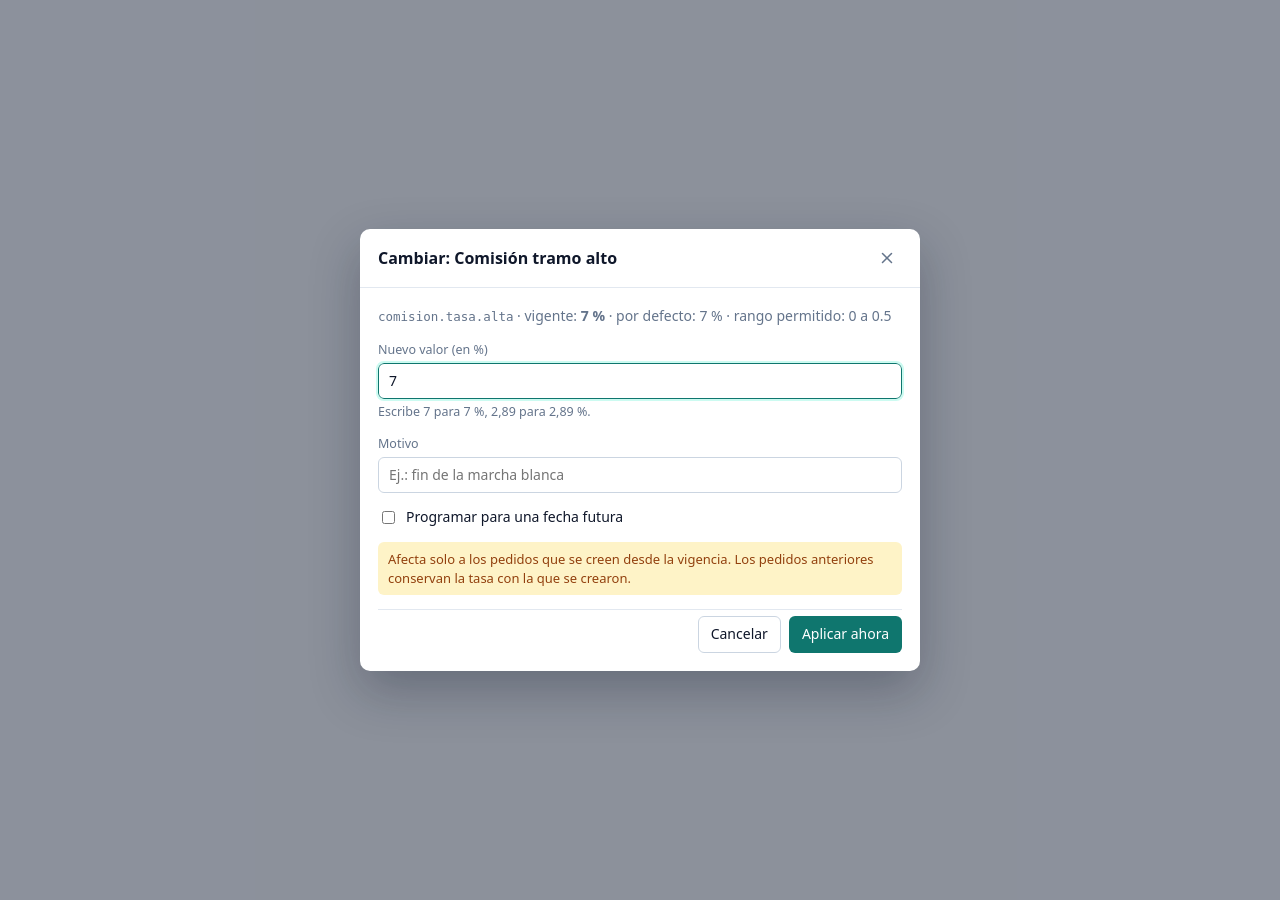
Test: CambioParametroModal › exige motivo y rechaza una fecha programada en el pasado
Replace the text in the field labelled "Nuevo valor (en %) Escribe 7 para 7 %, 2,89 para 2,89 %." with "8": (640, 381) [378,363,902,399]
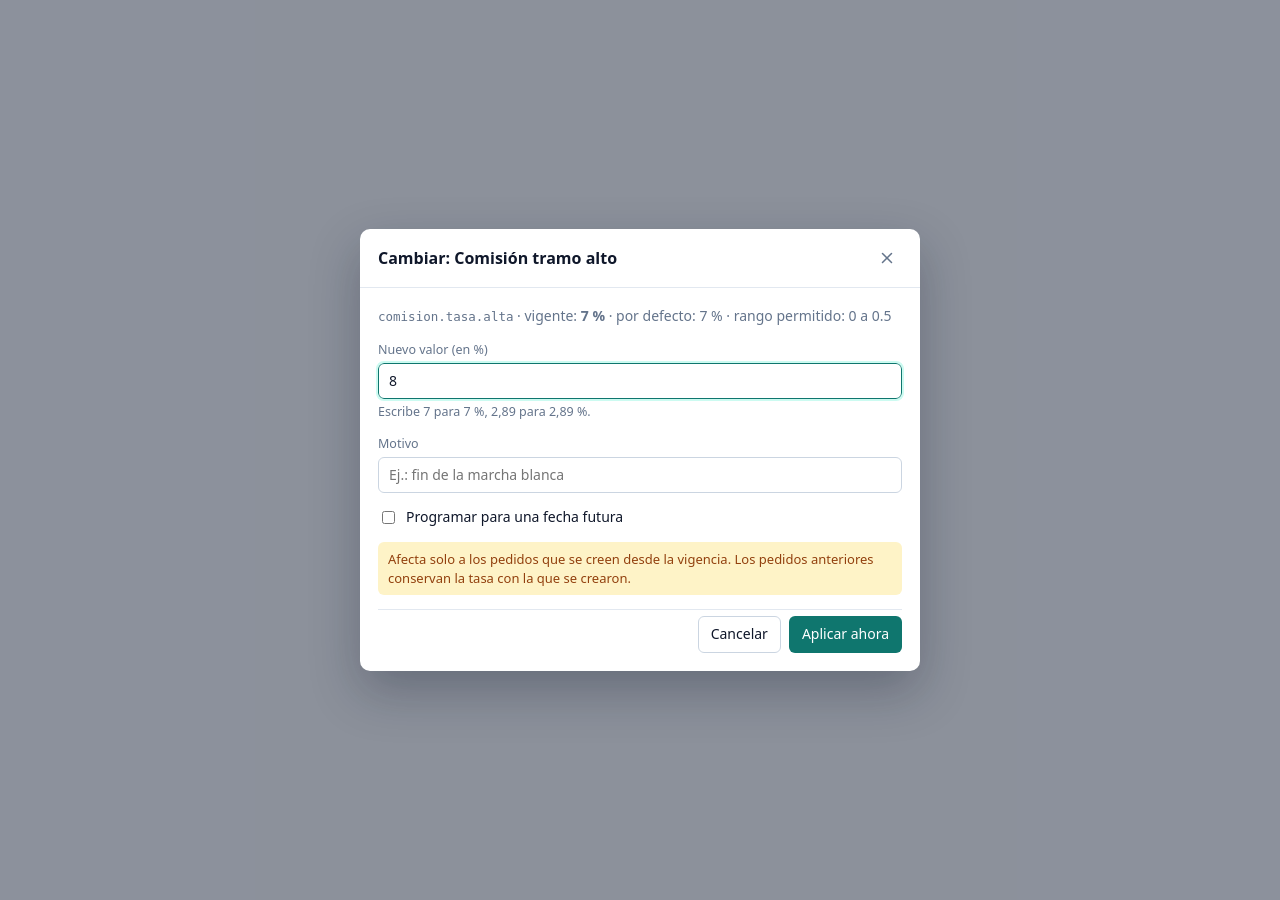
Click the button "Aplicar ahora": (845, 635) [789,616,902,653]
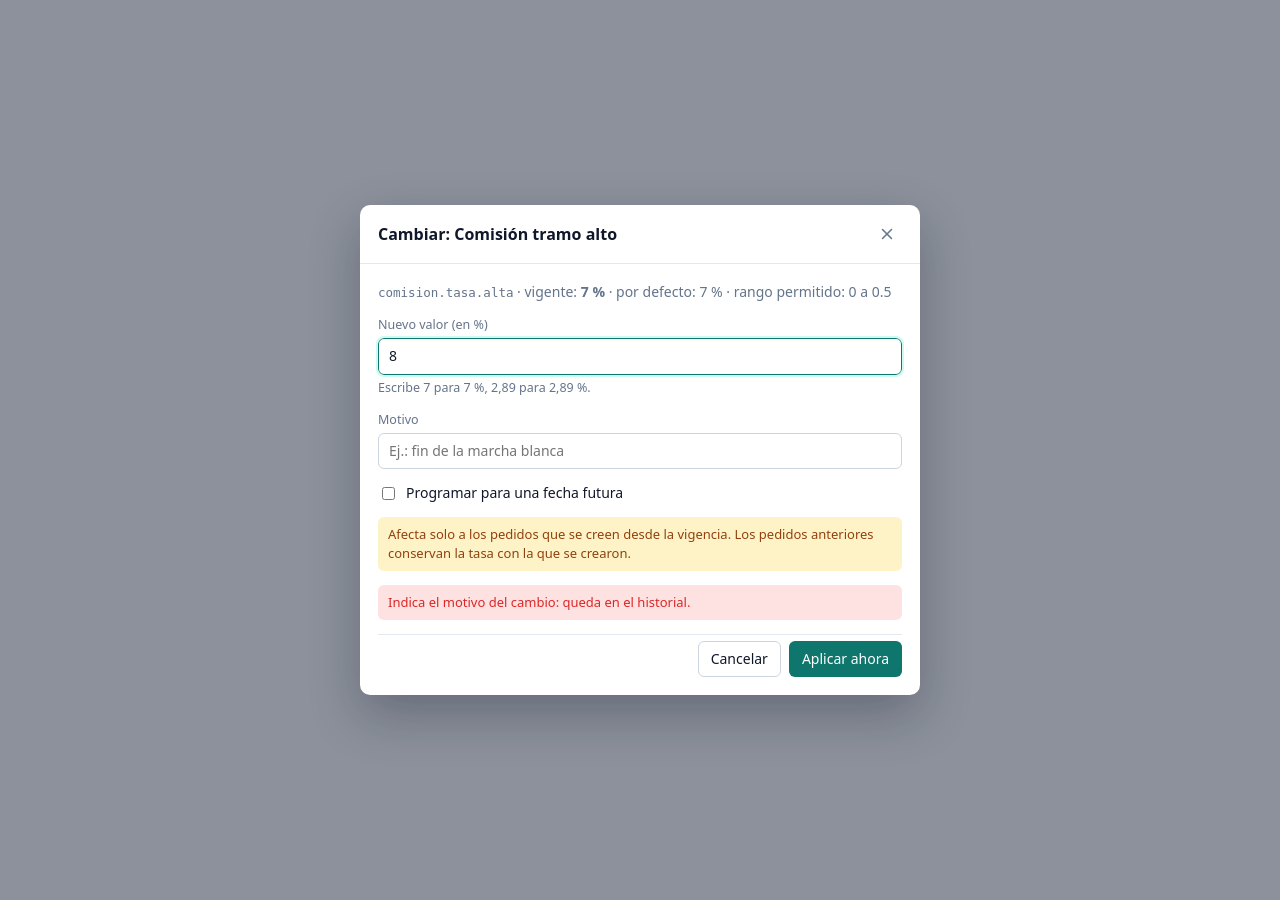
Expected: the message shows "motivo", [388,593,690,611]
In the field labelled "Motivo": (640, 451) [378,433,902,469], type "prueba"
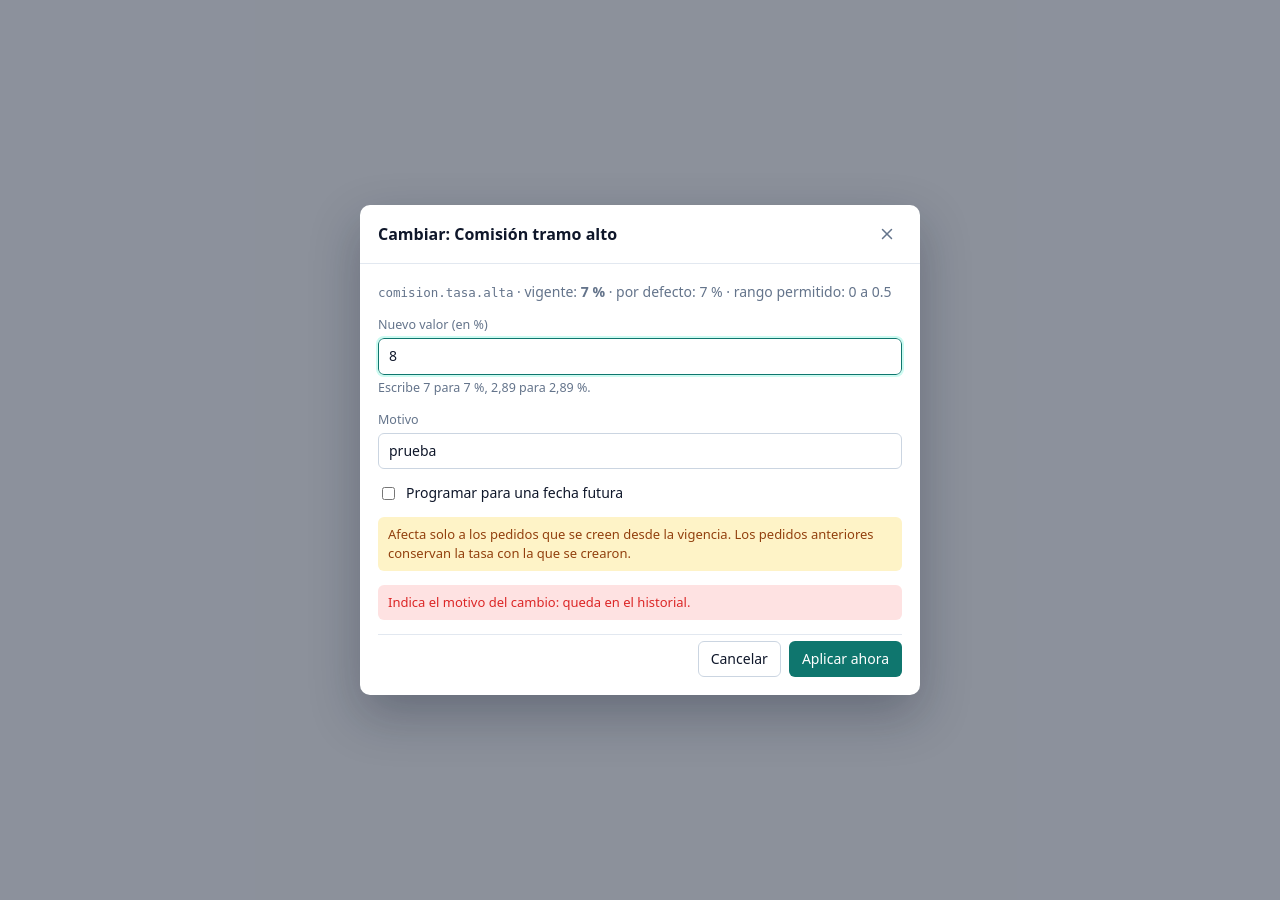
Click the checkbox labelled "Programar para una fecha futura": (388, 493) [382,487,395,500]
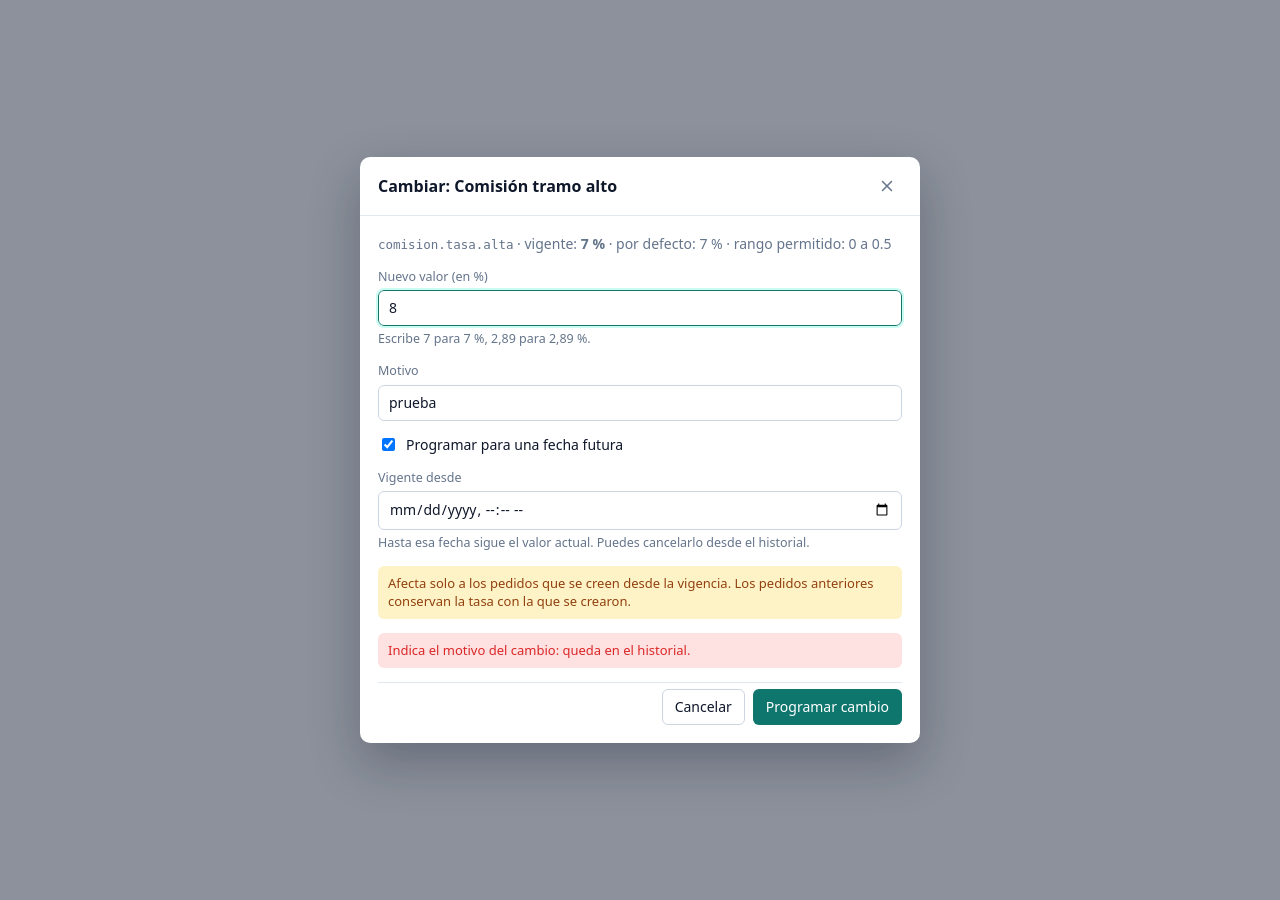
In the field labelled "Vigente desde": (640, 510) [378,491,902,530], type "2020-01-01T10:00"
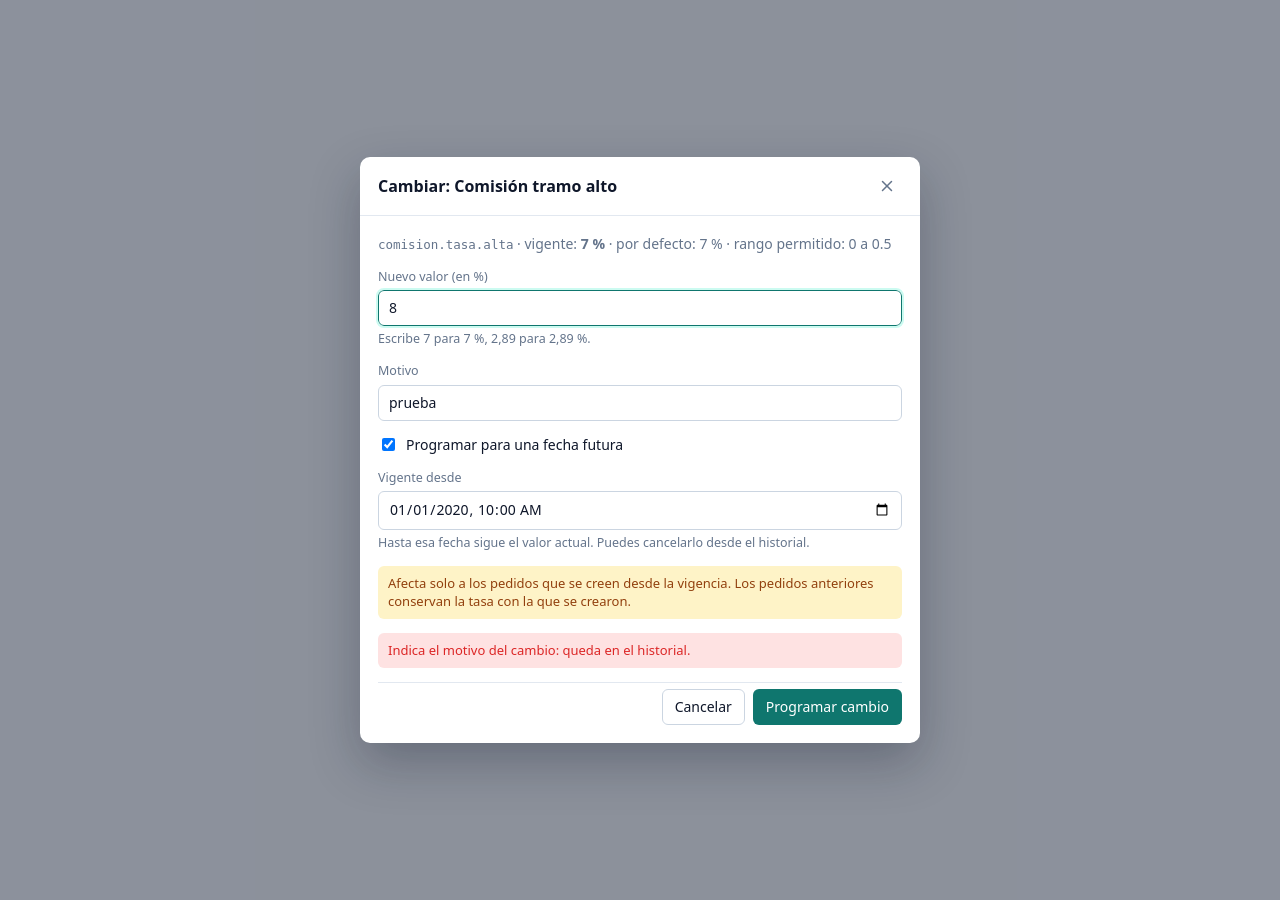
Click the button "Programar cambio": (827, 707) [753,689,902,726]
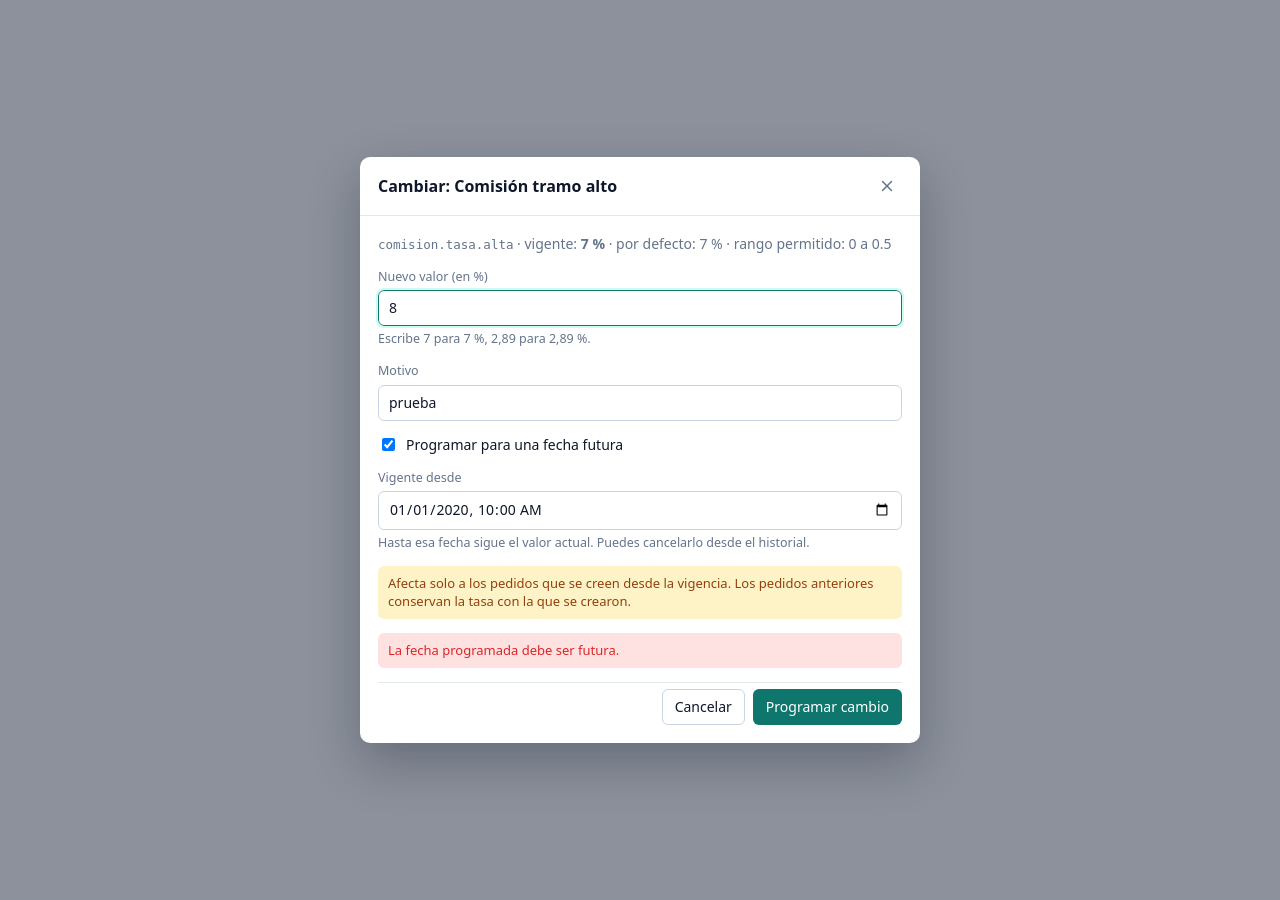
Expected: the message shows "futura", [388,641,619,659]
